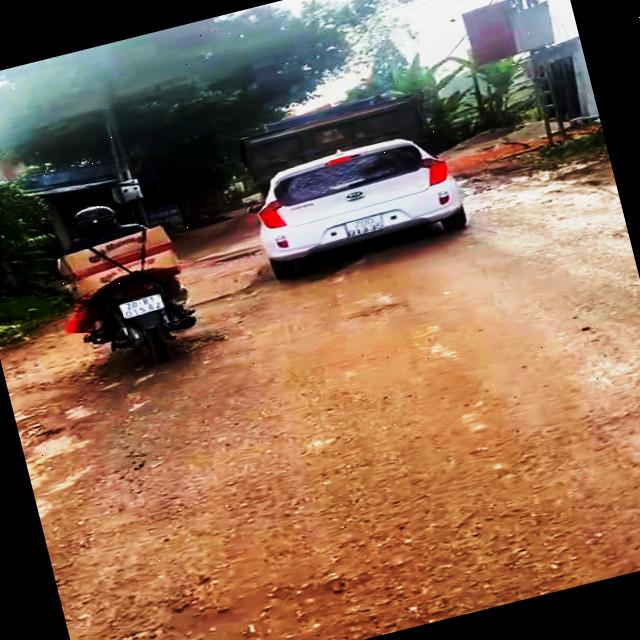pothole: (80, 322, 243, 388), (181, 275, 278, 317)
